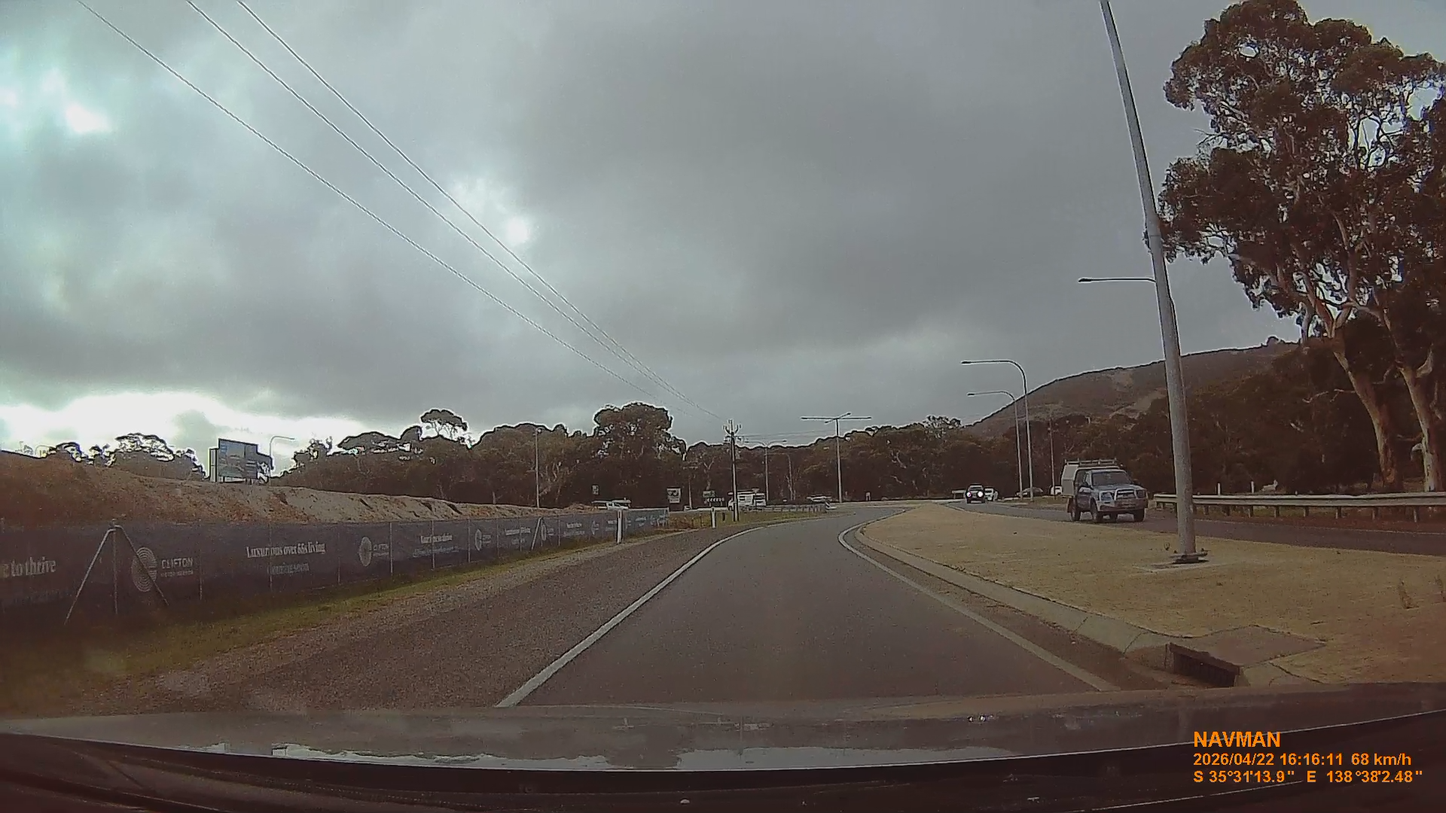road barriers: (1195, 494, 1445, 531)
